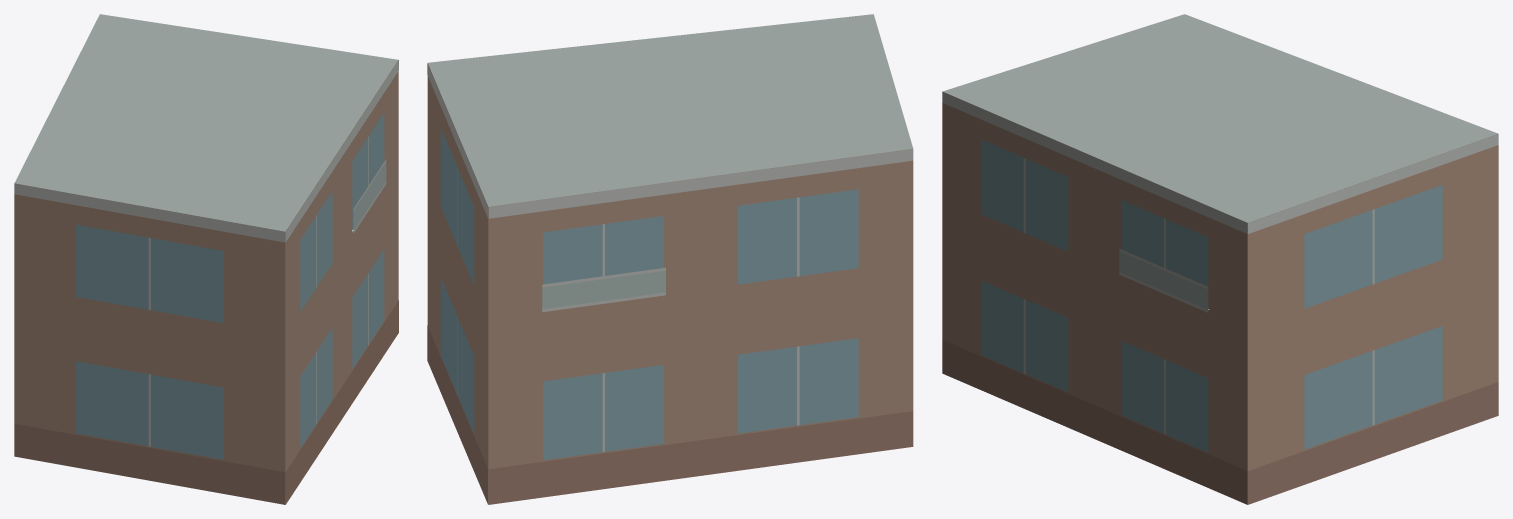
Rendered from survey-upis-32643895.glb.
3 renders of one model, left to right at view 1: azimuth 30°, elevation 25°; view 2: azimuth 150°, elevation 25°; view 3: azimuth 270°, elevation 25°, orthographic. The views are drawn at different scales.
Visible parts, largest first — view 1: survey-upis-32643895.tmp; view 2: survey-upis-32643895.tmp; view 3: survey-upis-32643895.tmp.
Boxes of the visible parts, x1,y1,x2,y2 form: survey-upis-32643895.tmp: [14, 14, 398, 504]; survey-upis-32643895.tmp: [427, 14, 913, 504]; survey-upis-32643895.tmp: [942, 14, 1498, 504].
Bounding box in the file's own units: 9.7 × 6.1 × 10.92.
